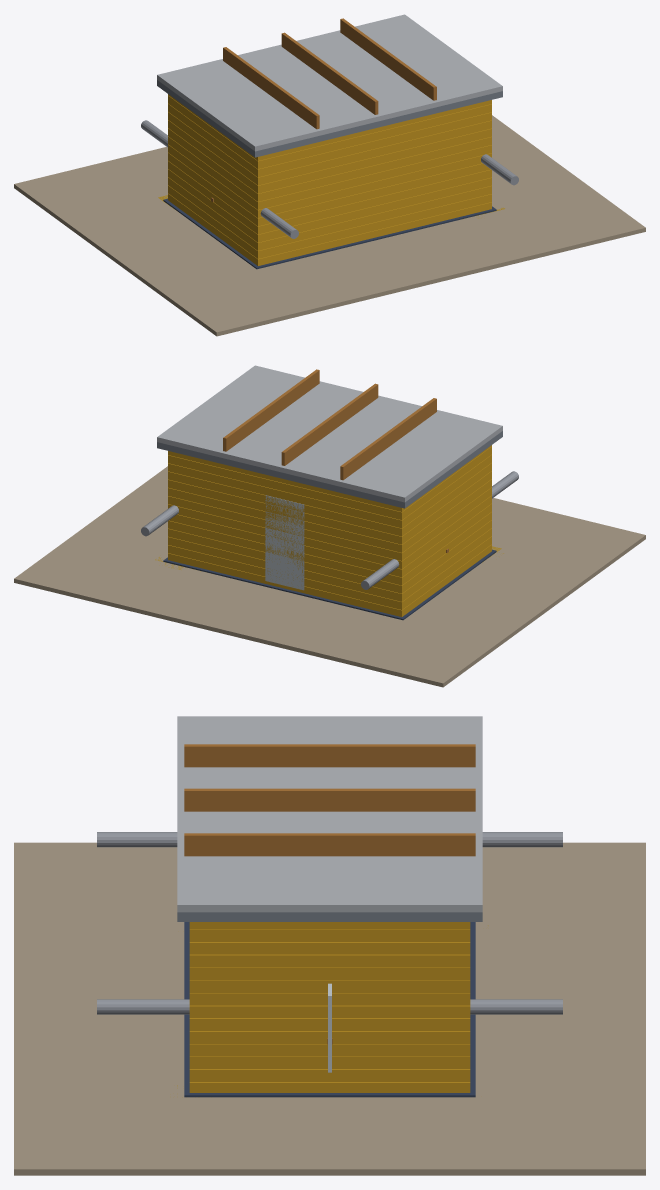
File: stage_10_roof_covering.glb
3 views of the same model, one above another, from view 1: azimuth 30°, elevation 25°; view 2: azimuth 150°, elevation 25°; view 3: azimuth 270°, elevation 25° (orthographic). The views are drawn at different scales.
Visible parts, largest first — view 1: world; view 2: world; view 3: world.
Part boxes in pixels (left/top/right/bottom): world: left=14, top=14, right=645, bottom=336; world: left=14, top=365, right=645, bottom=687; world: left=14, top=716, right=645, bottom=1175.
Bounding box in the file's own units: 11 × 4.2 × 9.
